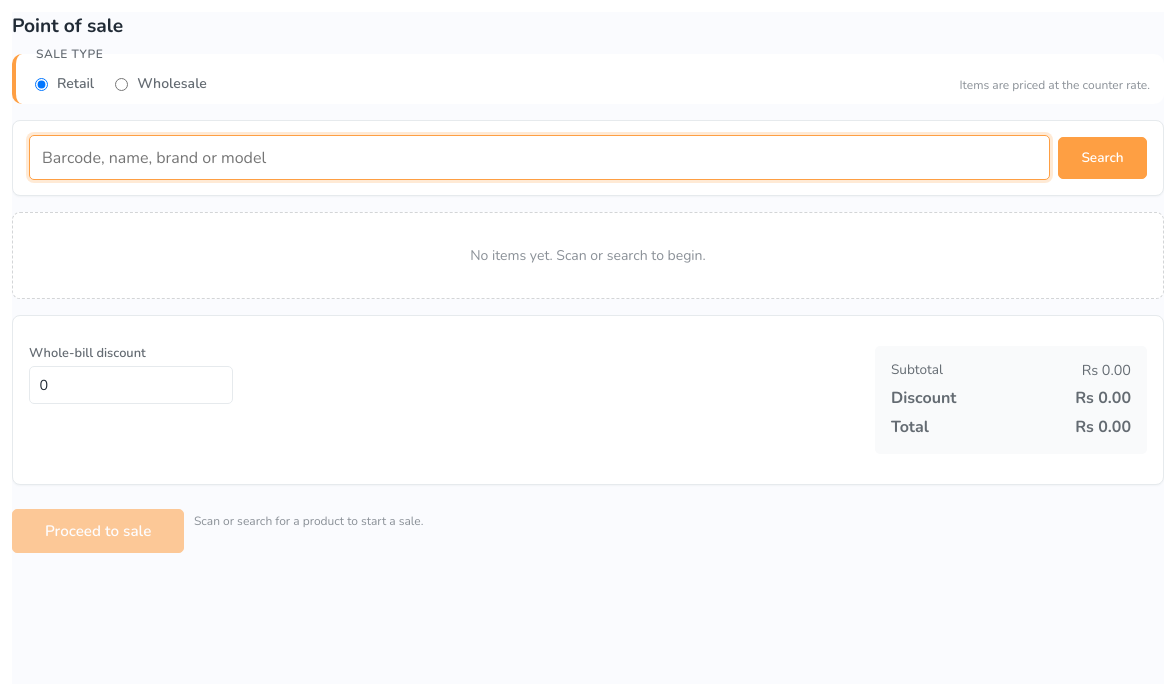
Test: POS search results › tells the counter how many are on the shelf, and how many are out with the salesman
Step 1. Type "type-c" into the field named "scan or search" → (540, 158), box [29,135,1050,180]
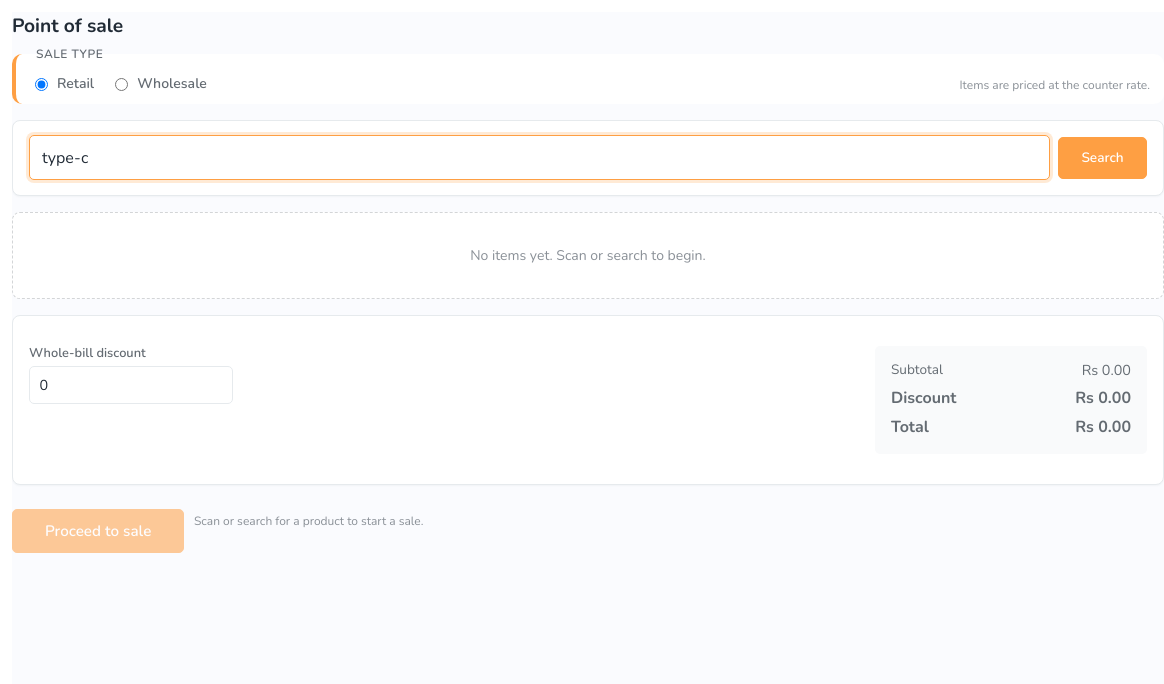
Step 2. Press Enter
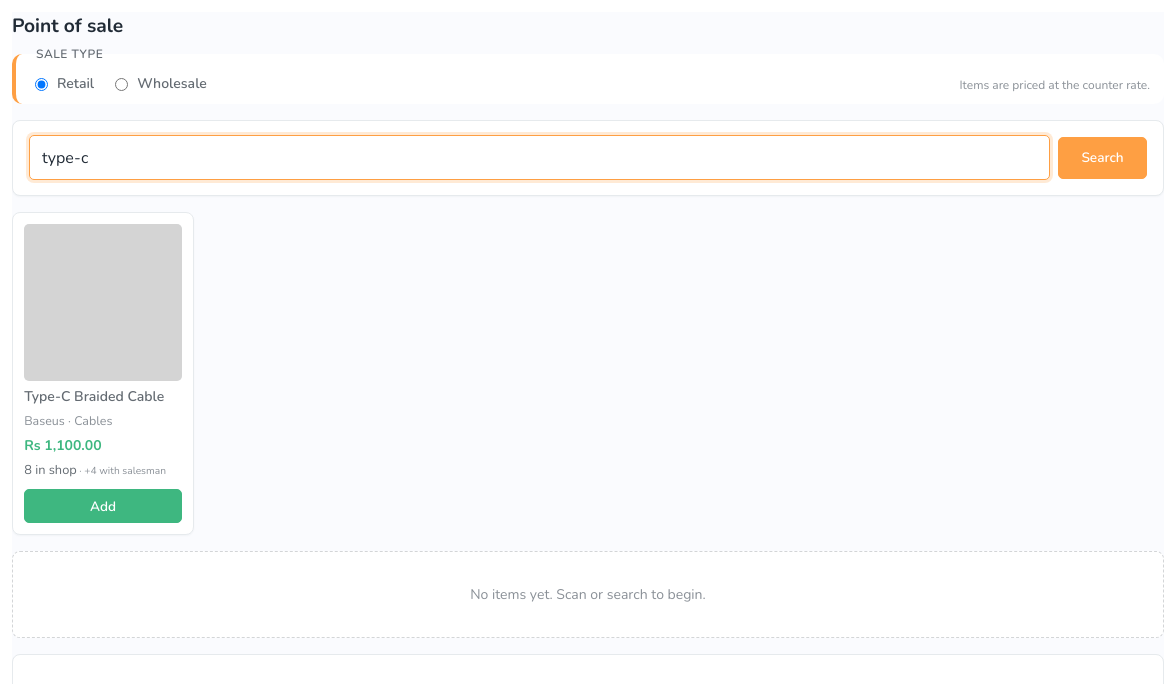
Now the element with test id "stock-count" reads "8 in shop · +4 with salesman", box [24,461,166,479]
